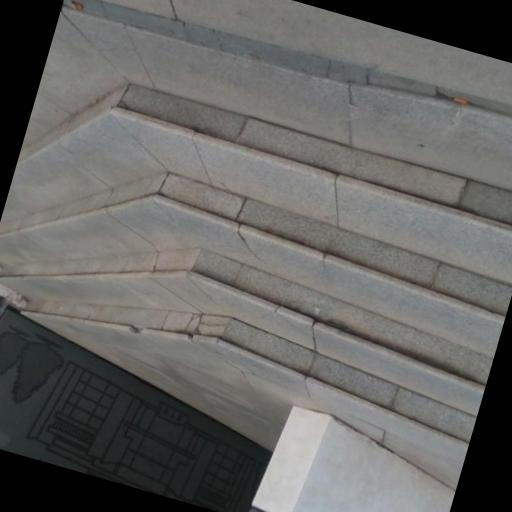stairs: (0, 85, 511, 440)
